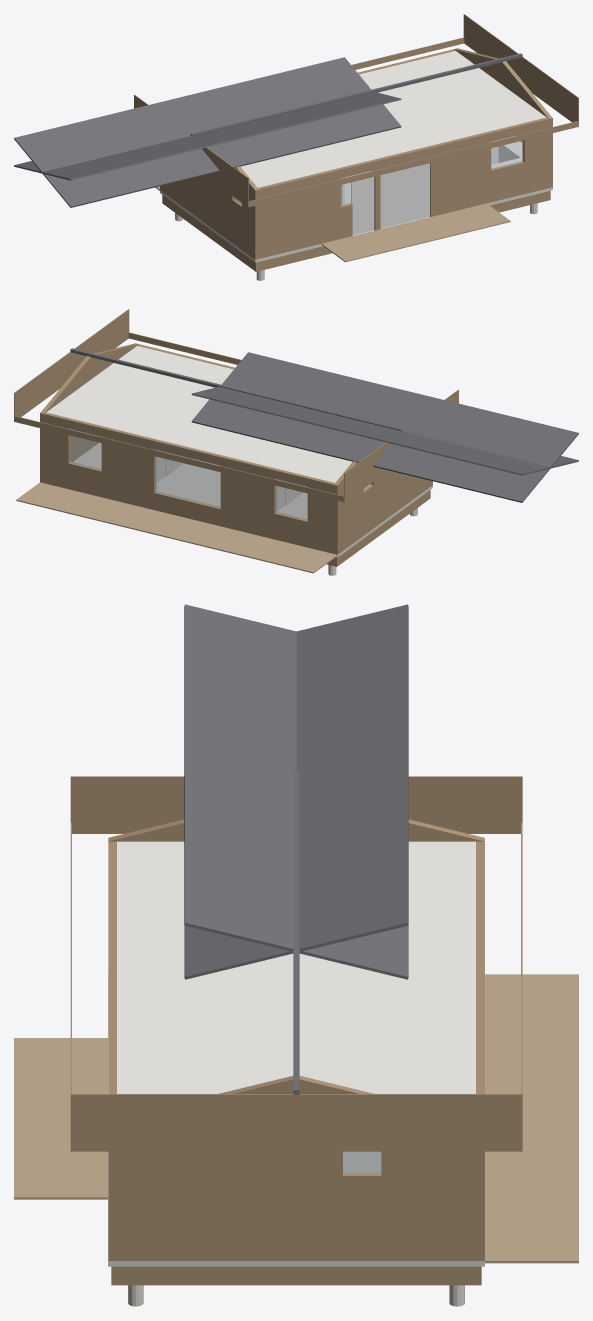
File: villa-16a.glb
3 views of the same model, one above another, from view 1: azimuth 30°, elevation 25°; view 2: azimuth 150°, elevation 25°; view 3: azimuth 270°, elevation 25° (orthographic). The views are drawn at different scales.
Visible parts, largest first — view 1: roof_gable_south, wall_external_south, ceiling_main, roof_gable_north, deck_south, wall_external_west, roof_fascia_east, door_dining_slider, roof_fascia_south, floor_subframe, wall_external_east, roof_ridge (+6 smaller); view 2: roof_gable_north, wall_external_north, ceiling_main, deck_north, roof_gable_south, wall_external_west, floor_slab, roof_fascia_east, window_lounge_north, roof_fascia_north, wall_external_east, roof_ridge (+6 smaller); view 3: ceiling_main, wall_external_east, roof_gable_north, roof_gable_south, roof_fascia_east, deck_north, deck_south, roof_fascia_west, floor_subframe, floor_slab, wall_external_north, wall_external_south (+3 smaller).
Part boxes in pixels (x1,y1,x2,y2): roof_gable_south: (14, 57, 401, 207); wall_external_south: (258, 117, 548, 258); ceiling_main: (240, 51, 546, 187); roof_gable_north: (14, 91, 401, 180); deck_south: (321, 203, 510, 262); wall_external_west: (160, 166, 259, 259); roof_fascia_east: (463, 14, 578, 126); door_dining_slider: (380, 163, 429, 228); roof_fascia_south: (249, 121, 578, 207); floor_subframe: (162, 191, 550, 271); wall_external_east: (454, 48, 552, 187); roof_ridge: (190, 53, 522, 135); roof_gable_north: (191, 352, 578, 502); wall_external_north: (44, 412, 334, 553); ceiling_main: (46, 346, 352, 482); deck_north: (16, 482, 337, 573); roof_gable_south: (191, 386, 578, 475); wall_external_west: (333, 461, 432, 554); floor_slab: (73, 442, 432, 557); roof_fascia_east: (14, 309, 129, 417); window_lounge_north: (155, 450, 220, 507); roof_fascia_north: (14, 416, 344, 502); wall_external_east: (40, 343, 138, 482); roof_ridge: (70, 348, 402, 430); ceiling_main: (117, 841, 475, 1093); wall_external_east: (108, 1076, 484, 1260); roof_gable_north: (184, 604, 408, 979); roof_gable_south: (184, 604, 408, 979); roof_fascia_east: (70, 1094, 522, 1151); deck_north: (485, 974, 578, 1263); deck_south: (14, 1038, 107, 1199); roof_fascia_west: (70, 776, 522, 833); floor_subframe: (111, 1266, 481, 1285); floor_slab: (108, 974, 484, 1266); wall_external_north: (476, 841, 484, 1093); wall_external_south: (108, 841, 116, 1093).
Size of the model in its own units: 17.4 by 4.66 by 9.
